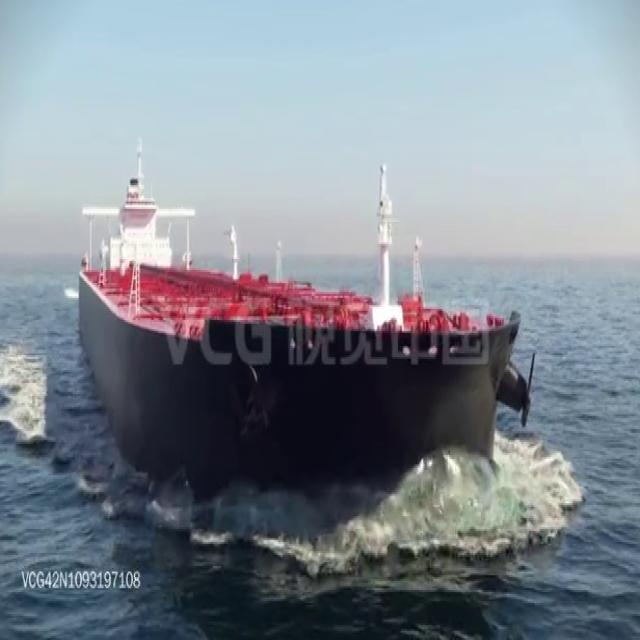cargoship: (78, 142, 520, 494)
